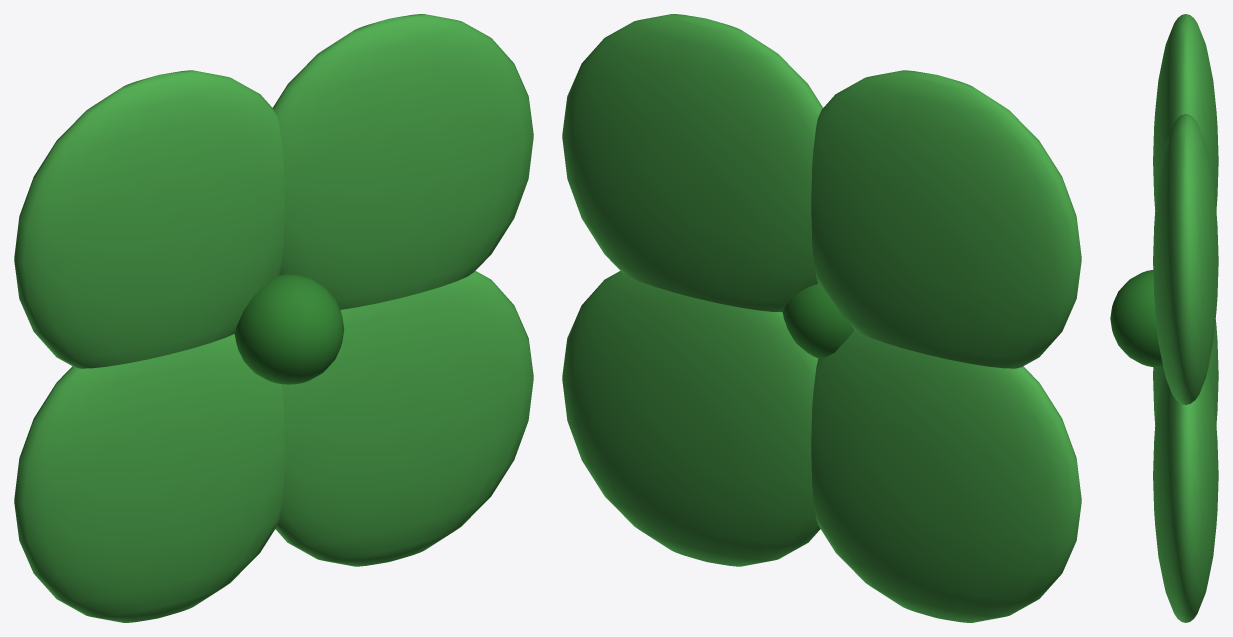
File: mat_clover.glb
3 views of the same model, side by side, from view 1: azimuth 30°, elevation 25°; view 2: azimuth 150°, elevation 25°; view 3: azimuth 270°, elevation 25° (orthographic). The views are drawn at different scales.
Visible parts, largest first — view 1: _sphere; view 2: _sphere; view 3: _sphere.
Part boxes in pixels (x1,y1,x2,y2): _sphere: (14, 14, 533, 622); _sphere: (562, 14, 1081, 622); _sphere: (1110, 14, 1218, 622).
Bounding box in the file's own units: 0.8106 × 0.8106 × 0.165.
